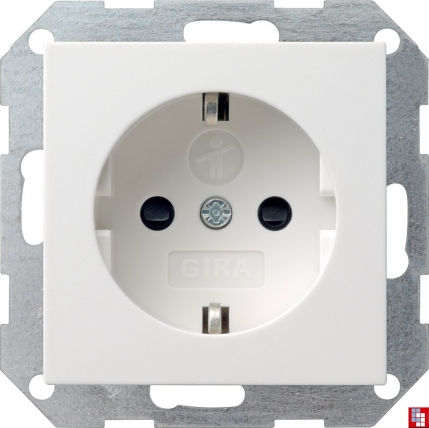raccoon: (91, 84, 338, 344)
